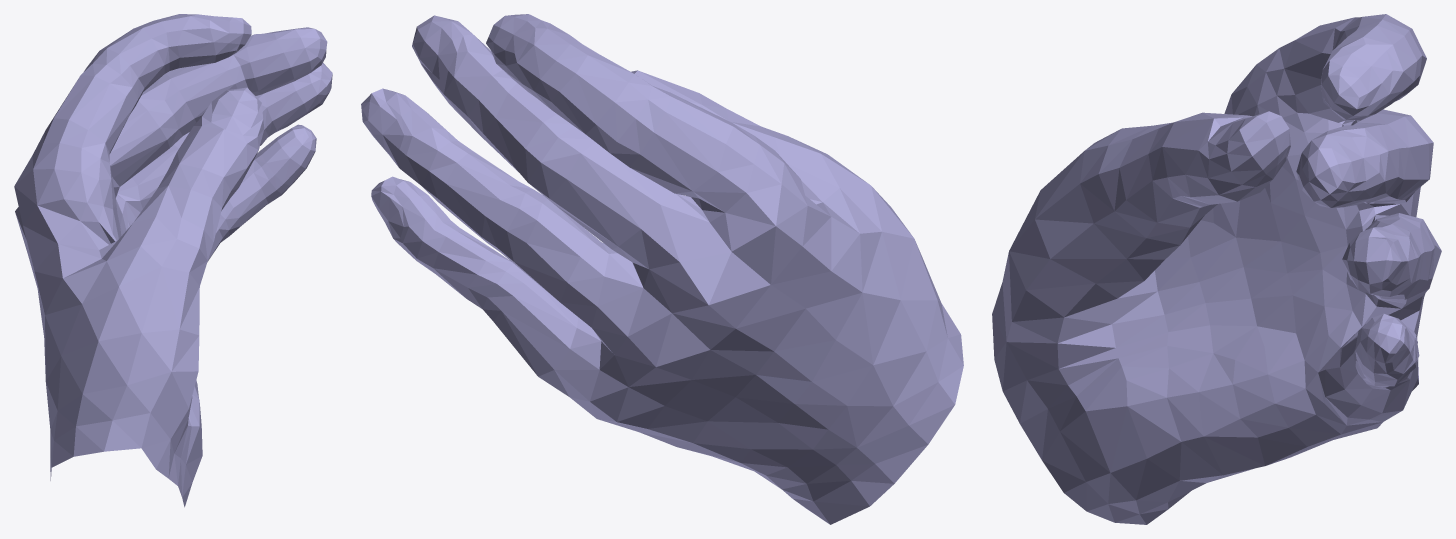
The model's file is frame_0010_source_000010_hand.glb.
3 views of the same model, side by side, from view 1: azimuth 30°, elevation 25°; view 2: azimuth 150°, elevation 25°; view 3: azimuth 270°, elevation 25° (orthographic). The views are drawn at different scales.
Visible parts, largest first — view 1: world; view 2: world; view 3: world.
Part boxes in pixels (x1=…): world: x1=14, y1=14, x2=332, y2=507; world: x1=361, y1=14, x2=963, y2=524; world: x1=992, y1=14, x2=1441, y2=524.
Size of the model in its own units: 0.1292 by 0.1356 by 0.0955.
